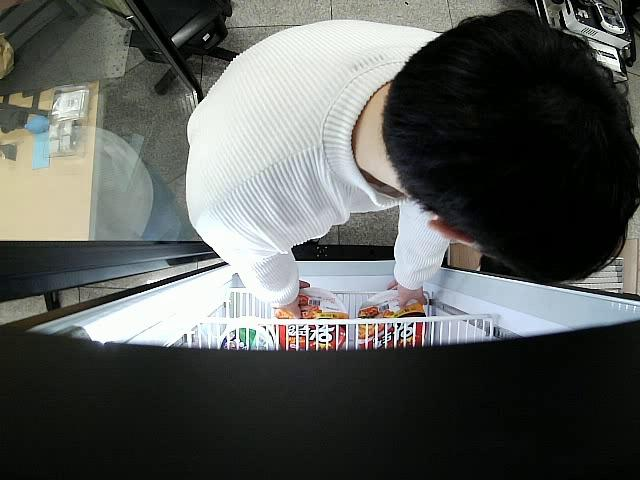00_hand: (274, 279, 311, 321), (387, 278, 425, 310)
10_wangTtukkeong: (274, 288, 349, 352), (357, 291, 429, 349)
